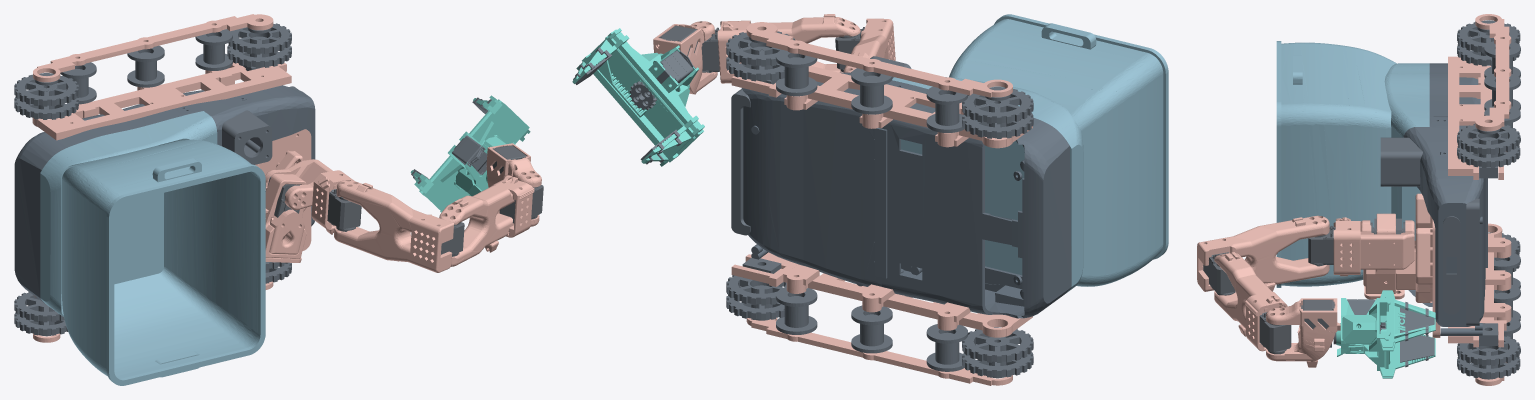
File: moss.glb
3 renders of one model, left to right at view 1: azimuth 30°, elevation 25°; view 2: azimuth 150°, elevation 25°; view 3: azimuth 270°, elevation 25°, orthographic. The views are drawn at different scales.
Parts seen in each view (by area): view 1: body_1; view 2: body_1; view 3: body_1.
Part boxes in pixels (box(x1,y1,x2,y2)): body_1: box(14, 14, 543, 385); body_1: box(572, 14, 1168, 385); body_1: box(1197, 14, 1520, 385).
Bounding box in the file's own units: 0.5585 × 0.297 × 0.3365.
1 material, 1 textured.
